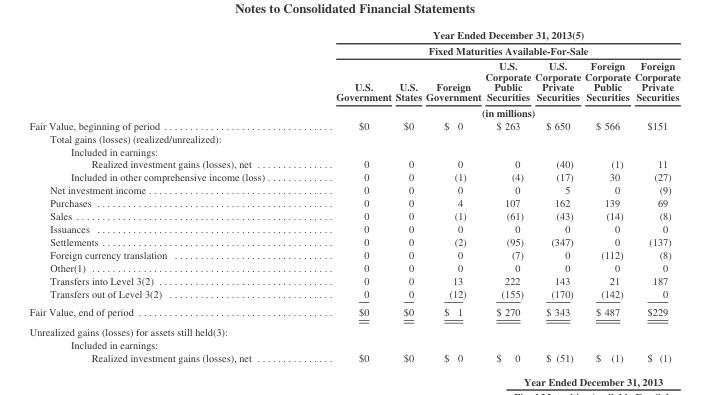table: (28, 28, 679, 363)
table column: (28, 28, 299, 363), (299, 28, 392, 363), (423, 28, 482, 363), (482, 28, 532, 363), (532, 28, 582, 363), (582, 28, 631, 363), (631, 28, 679, 363), (392, 28, 423, 363)
table column header: (28, 28, 679, 118)
table projected row header: (28, 321, 679, 338), (28, 131, 679, 144), (28, 144, 679, 157), (28, 338, 679, 351)
table row: (28, 57, 679, 104), (28, 28, 679, 57), (28, 302, 679, 321), (28, 321, 679, 338), (28, 286, 679, 302), (28, 104, 679, 118), (28, 118, 679, 131), (28, 131, 679, 144), (28, 144, 679, 157), (28, 157, 679, 170), (28, 170, 679, 183), (28, 183, 679, 196), (28, 196, 679, 209), (28, 209, 679, 222), (28, 234, 679, 247), (28, 247, 679, 260), (28, 260, 679, 273), (28, 273, 679, 286), (28, 338, 679, 351), (28, 222, 679, 234), (28, 351, 679, 363)
table spanning cell: (299, 28, 679, 57), (299, 104, 679, 118)
